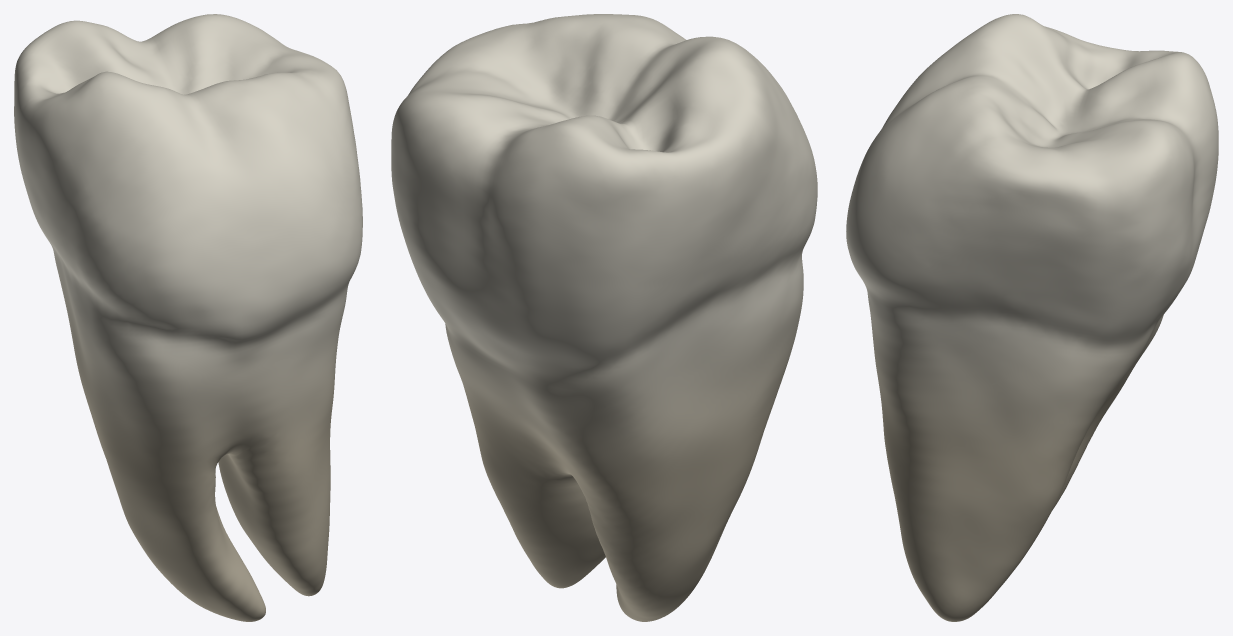
3 views of the same model, side by side, from view 1: azimuth 30°, elevation 25°; view 2: azimuth 150°, elevation 25°; view 3: azimuth 270°, elevation 25° (orthographic). The views are drawn at different scales.
Parts seen in each view (by area): view 1: Tooth_38_0; view 2: Tooth_38_0; view 3: Tooth_38_0.
Part boxes in pixels (x1,y1,x2,y2): Tooth_38_0: (14, 14, 362, 621); Tooth_38_0: (391, 14, 817, 621); Tooth_38_0: (846, 14, 1218, 621).
Bounding box in the file's own units: 1.1 × 1.98 × 1.25.
